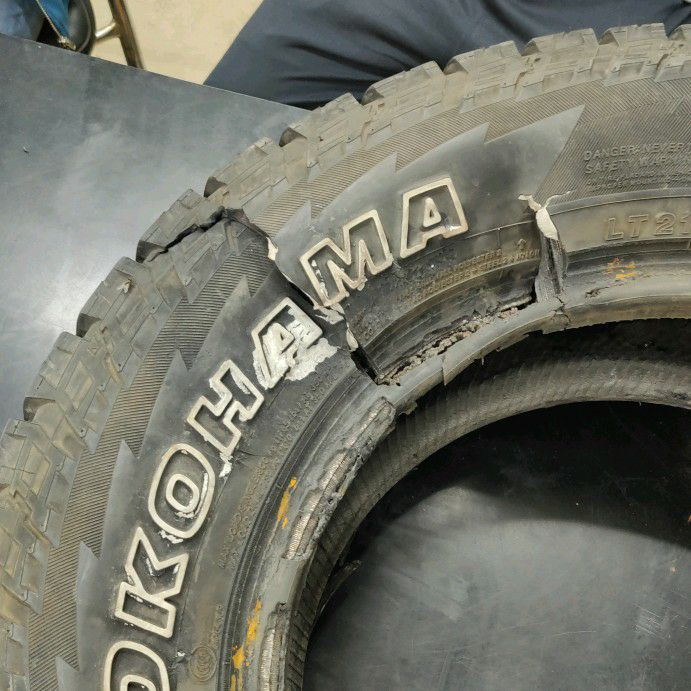bead_damage: (137, 184, 596, 690)
cut: (147, 206, 547, 391)
